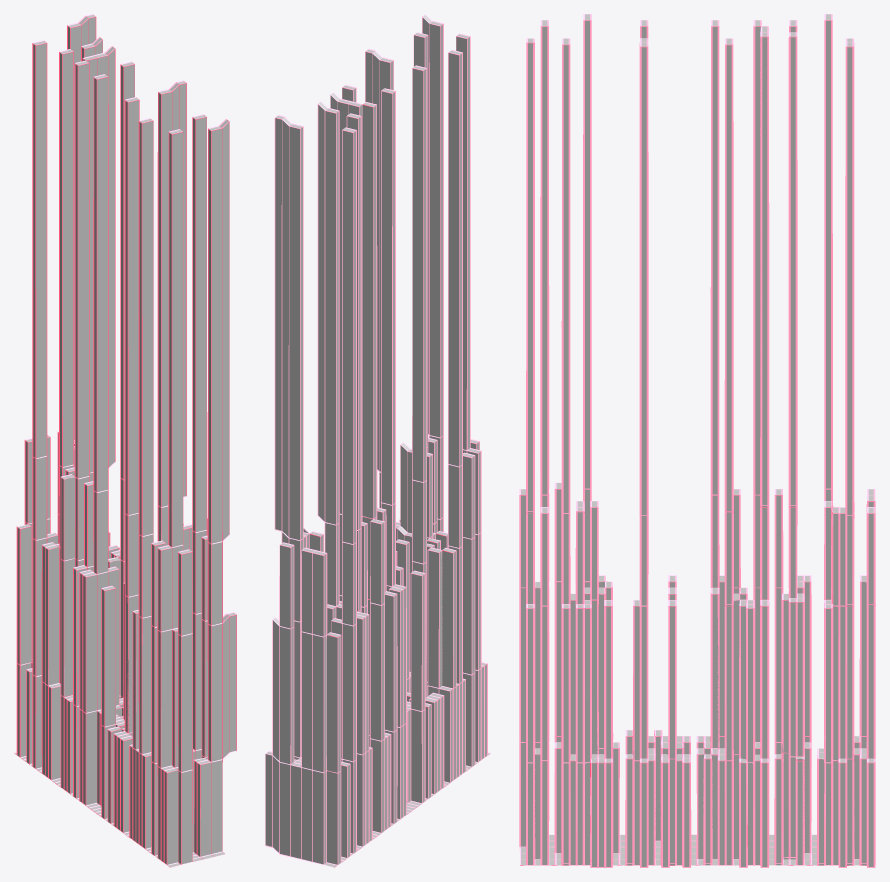
Rendered from uploads_files_2737763_Synthwave+large+building+fbx.fbx.
3 views of the same model, side by side, from view 1: azimuth 30°, elevation 25°; view 2: azimuth 150°, elevation 25°; view 3: azimuth 270°, elevation 25° (orthographic). The views are drawn at different scales.
Visible parts, largest first — view 1: Buildings.027; view 2: Buildings.027; view 3: Buildings.027.
Part boxes in pixels (left/top/right/bottom): Buildings.027: left=14, top=14, right=236, bottom=867; Buildings.027: left=265, top=14, right=490, bottom=867; Buildings.027: left=519, top=14, right=875, bottom=867.
Bounding box in the file's own units: 730 × 7317 × 2858.
